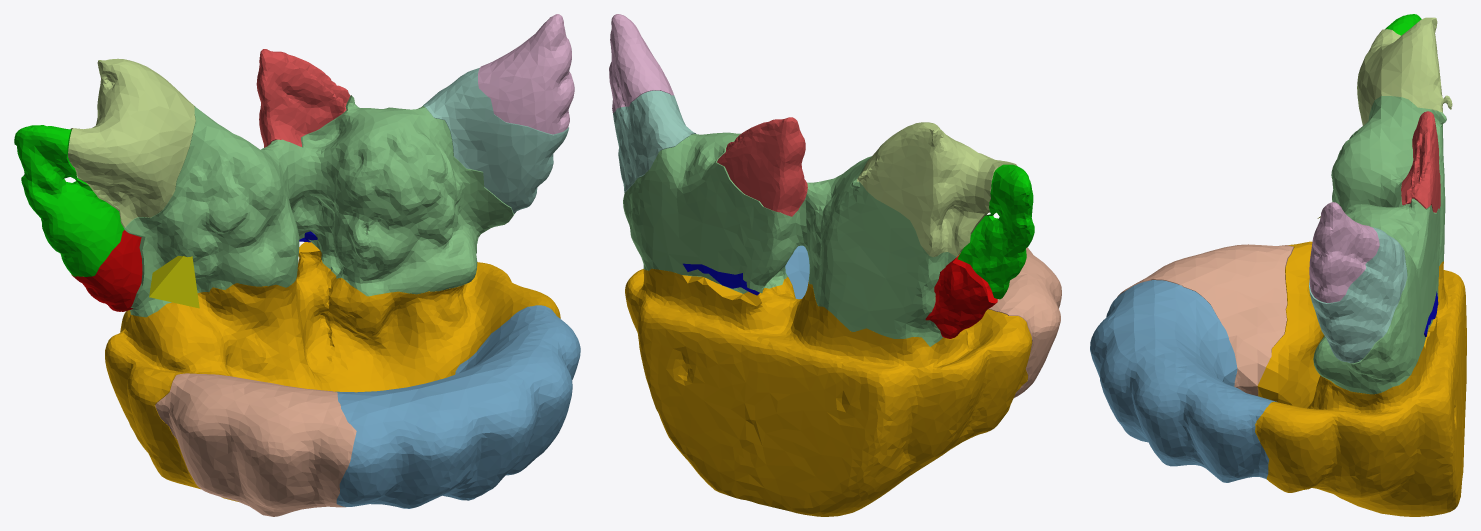
Rendered from fractured_34_12pcs.glb.
3 renders of one model, left to right at view 1: azimuth 30°, elevation 25°; view 2: azimuth 150°, elevation 25°; view 3: azimuth 270°, elevation 25°, orthographic. The views are drawn at different scales.
Visible parts, largest first — view 1: piece_3.obj, piece_0.obj, piece_2.obj, piece_7.obj, piece_5.obj, piece_8.obj, piece_4.obj, piece_6.obj, piece_1.obj, piece_9.obj, piece_11.obj; view 2: piece_0.obj, piece_3.obj, piece_5.obj, piece_1.obj, piece_8.obj, piece_4.obj, piece_7.obj, piece_6.obj, piece_9.obj, piece_2.obj, piece_10.obj; view 3: piece_0.obj, piece_2.obj, piece_3.obj, piece_7.obj, piece_4.obj, piece_5.obj, piece_6.obj, piece_1.obj.
Part boxes in pixels (bbox=[...]): piece_3.obj: bbox=[123, 95, 514, 317]; piece_0.obj: bbox=[105, 242, 560, 501]; piece_2.obj: bbox=[335, 305, 580, 508]; piece_7.obj: bbox=[155, 373, 356, 516]; piece_5.obj: bbox=[68, 58, 195, 227]; piece_8.obj: bbox=[14, 125, 124, 276]; piece_4.obj: bbox=[423, 68, 568, 213]; piece_6.obj: bbox=[478, 14, 574, 134]; piece_1.obj: bbox=[256, 49, 350, 147]; piece_9.obj: bbox=[71, 230, 142, 311]; piece_11.obj: bbox=[149, 256, 199, 308]; piece_0.obj: bbox=[625, 268, 1032, 516]; piece_3.obj: bbox=[623, 132, 960, 346]; piece_5.obj: bbox=[856, 122, 1016, 257]; piece_1.obj: bbox=[717, 117, 807, 216]; piece_8.obj: bbox=[957, 164, 1034, 299]; piece_4.obj: bbox=[613, 90, 695, 192]; piece_7.obj: bbox=[988, 247, 1061, 397]; piece_6.obj: bbox=[609, 14, 673, 113]; piece_9.obj: bbox=[925, 253, 997, 338]; piece_2.obj: bbox=[785, 245, 809, 299]; piece_10.obj: bbox=[683, 263, 759, 295]; piece_0.obj: bbox=[1255, 241, 1466, 516]; piece_2.obj: bbox=[1090, 280, 1277, 482]; piece_3.obj: bbox=[1313, 96, 1446, 394]; piece_7.obj: bbox=[1117, 244, 1293, 395]; piece_4.obj: bbox=[1309, 227, 1407, 363]; piece_5.obj: bbox=[1357, 17, 1452, 125]; piece_6.obj: bbox=[1309, 202, 1379, 302]; piece_1.obj: bbox=[1401, 111, 1440, 212].
Bounding box in the file's own units: 0.9989 × 0.8253 × 0.7189.
